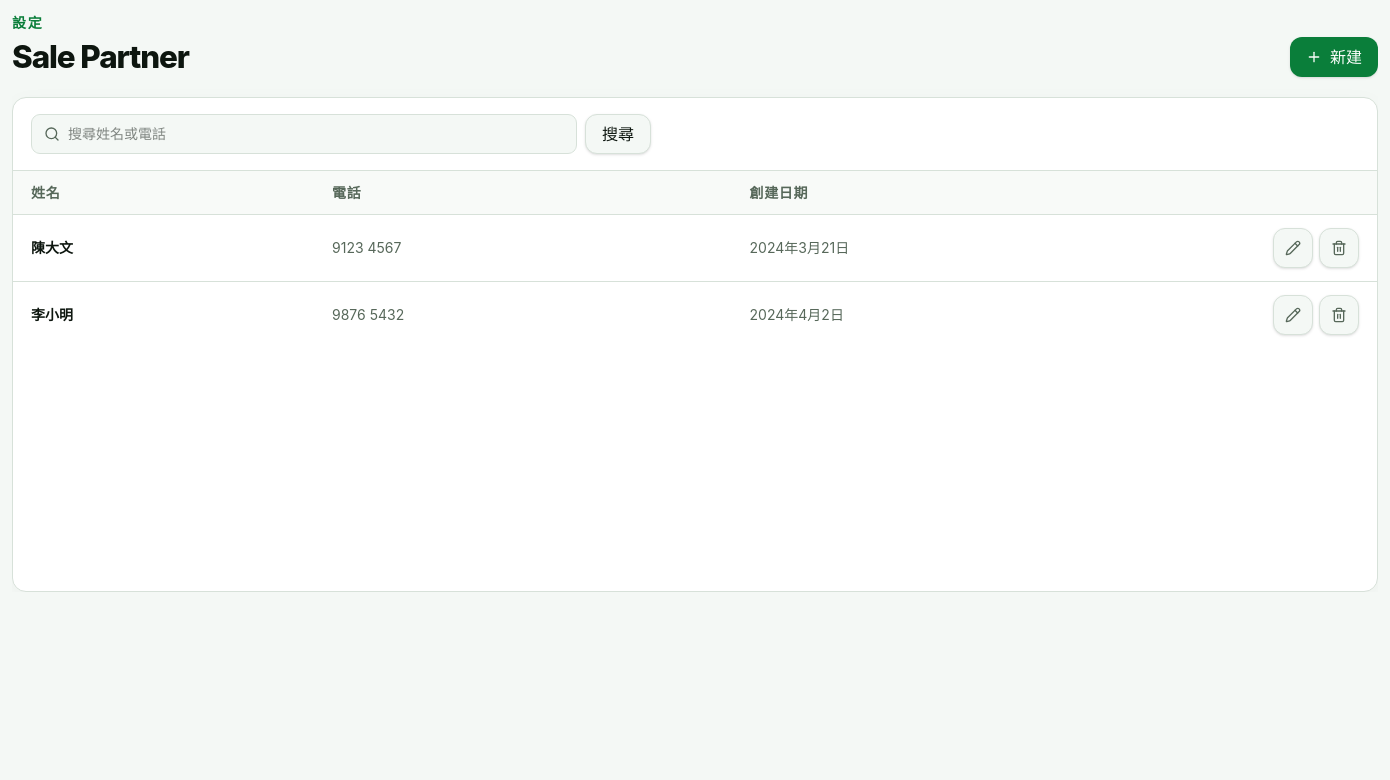
Test: Sale Partner page › deletes a partner after confirmation
Expected: the text "陳大文" is shown, top-left (31, 239), bottom-right (73, 256)
Click the button named "刪除" in the row of "陳大文" at {"x": 1339, "y": 248}, box top-left (1319, 228), bottom-right (1359, 268)
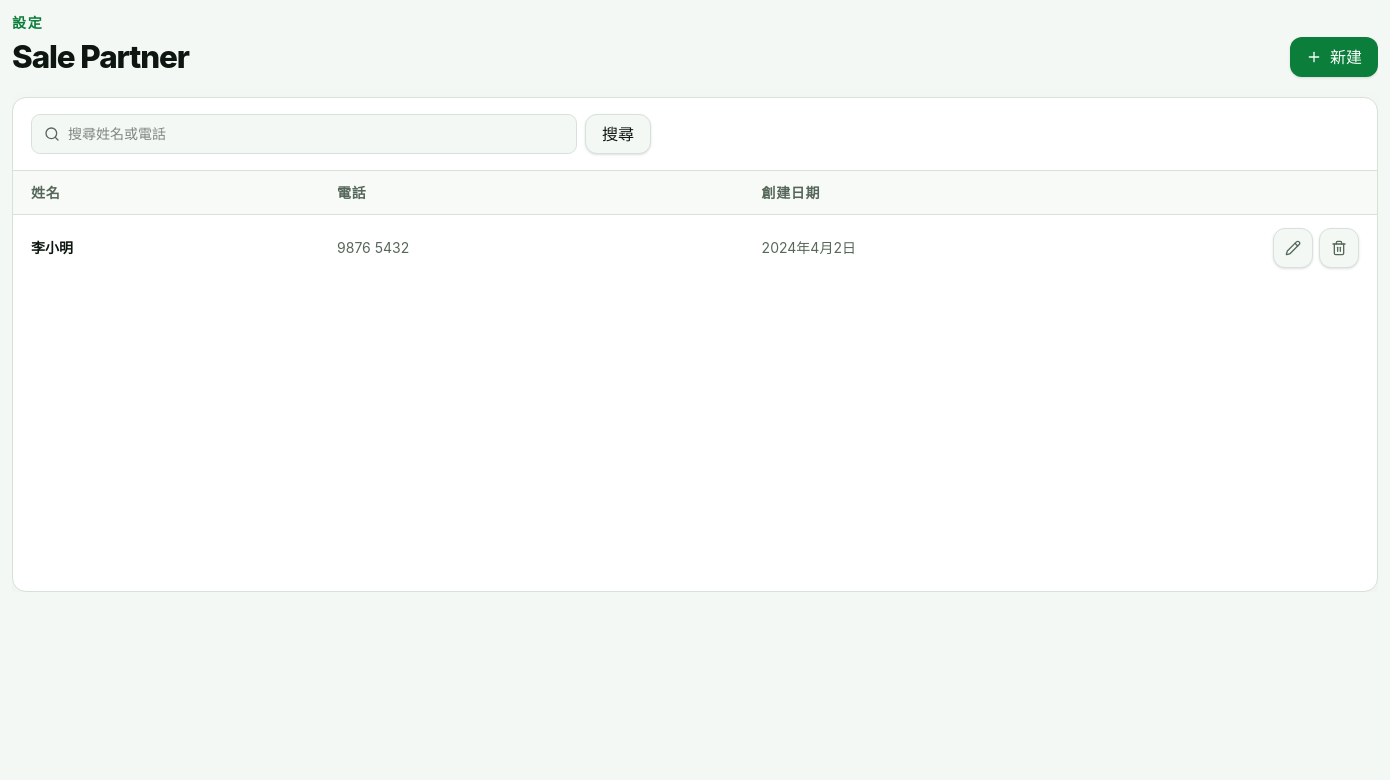
Expected: the text "李小明" is shown, top-left (31, 239), bottom-right (73, 256)
Expected: the text "陳大文" is gone
